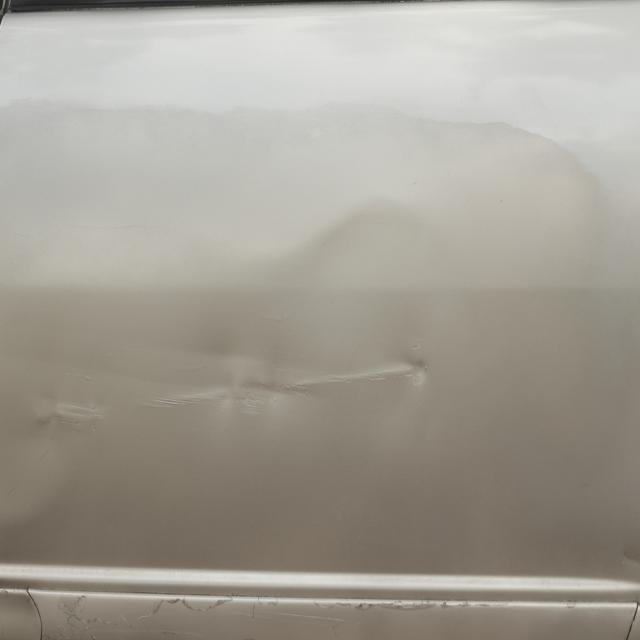dent: (147, 211, 445, 440), (0, 348, 90, 522)
